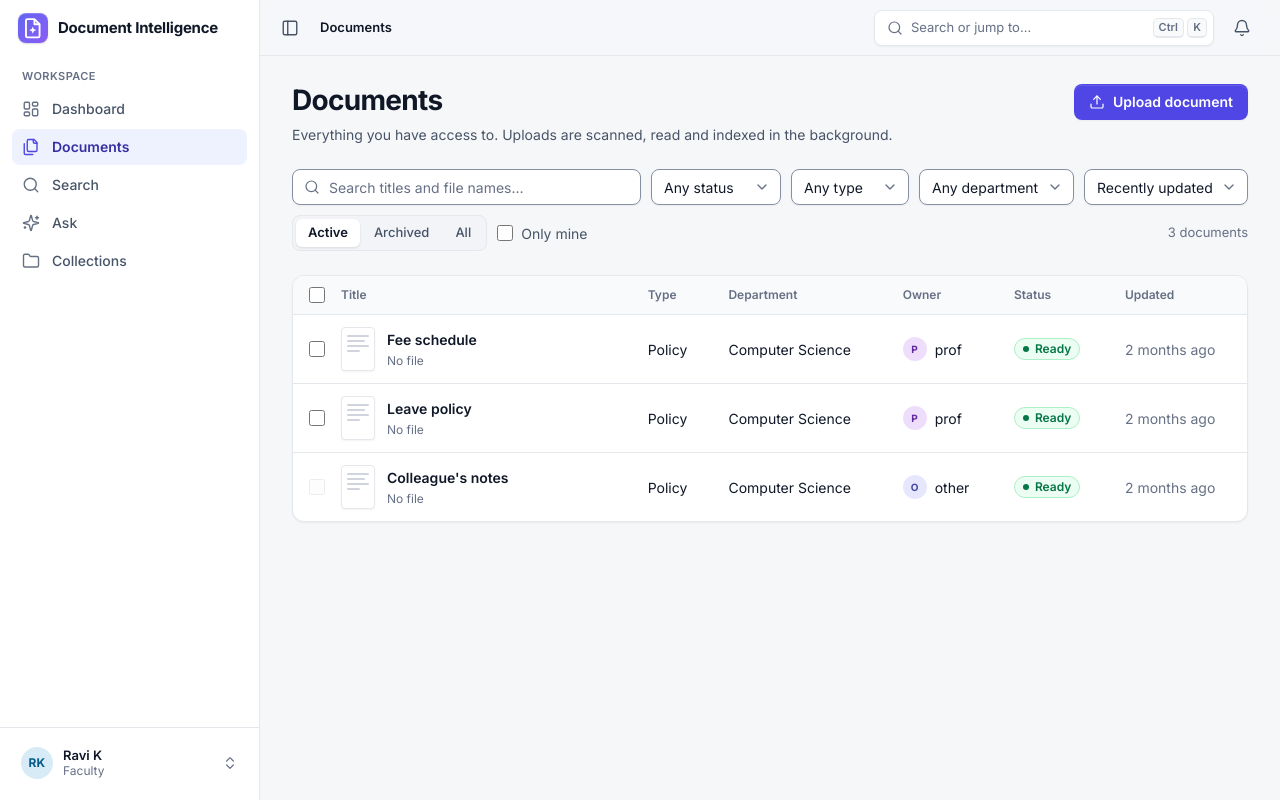
Test: DocumentsPage bulk delete › deletes the selected documents after confirmation
Click the checkbox named "Select Fee schedule".
click(317, 349)  # box [309,341,325,357]
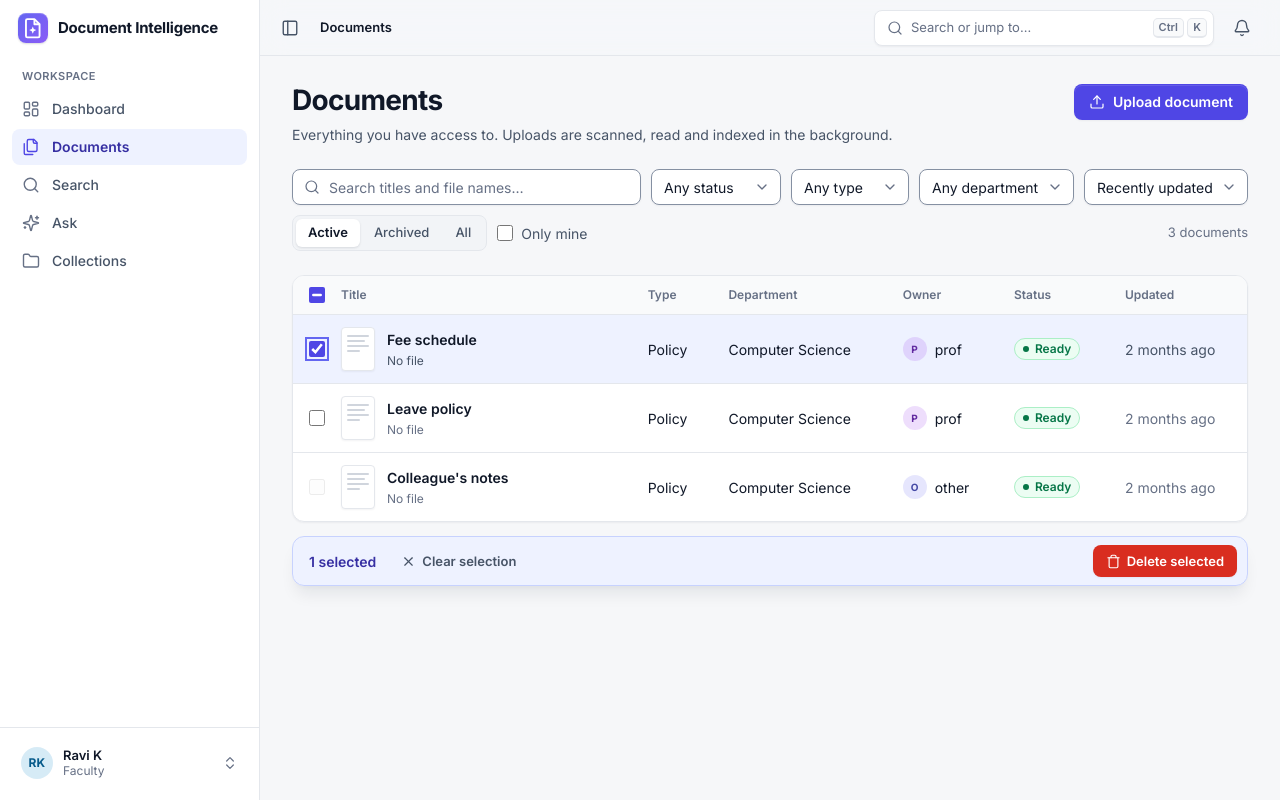
Click the checkbox named "Select Leave policy".
click(317, 418)  # box [309,410,325,426]
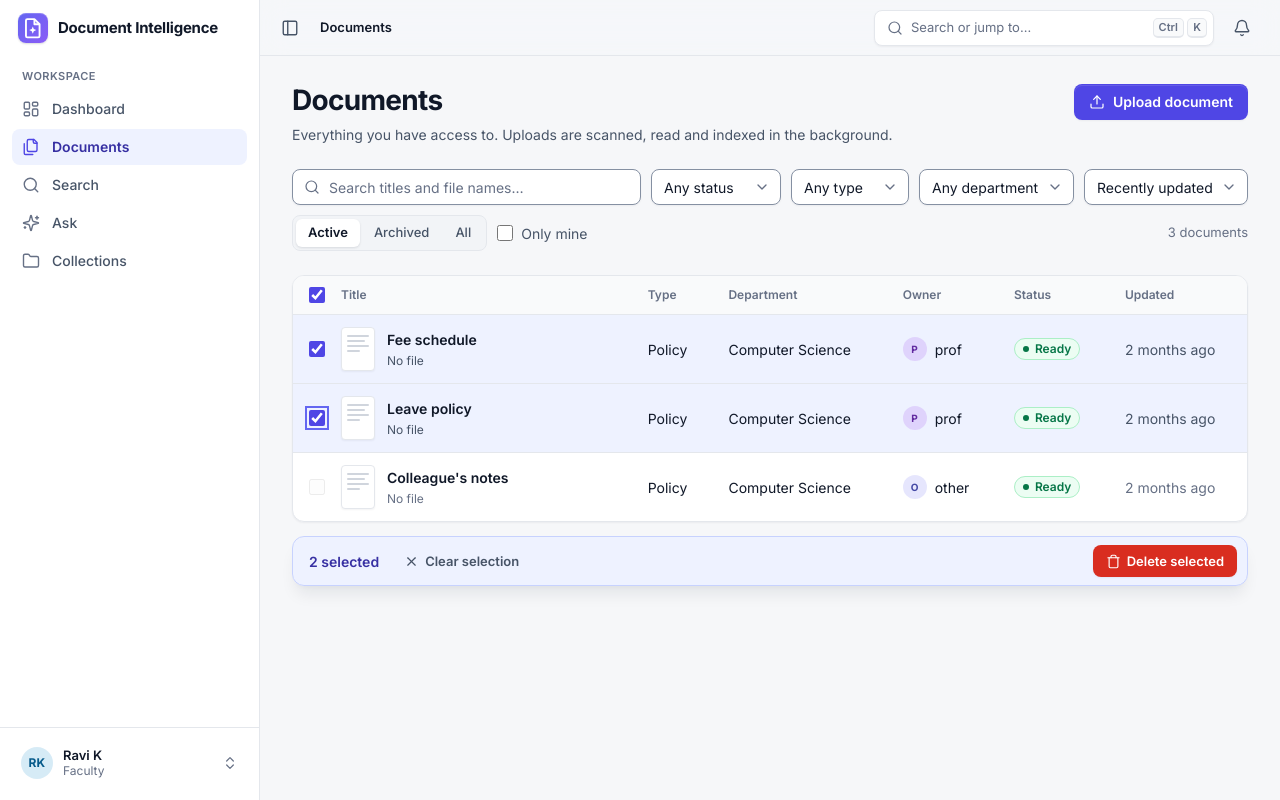
Expected: the text "2 selected" is shown, [309,551,379,572]
Click the button "Delete selected".
click(1165, 561)  # box [1093,545,1237,577]
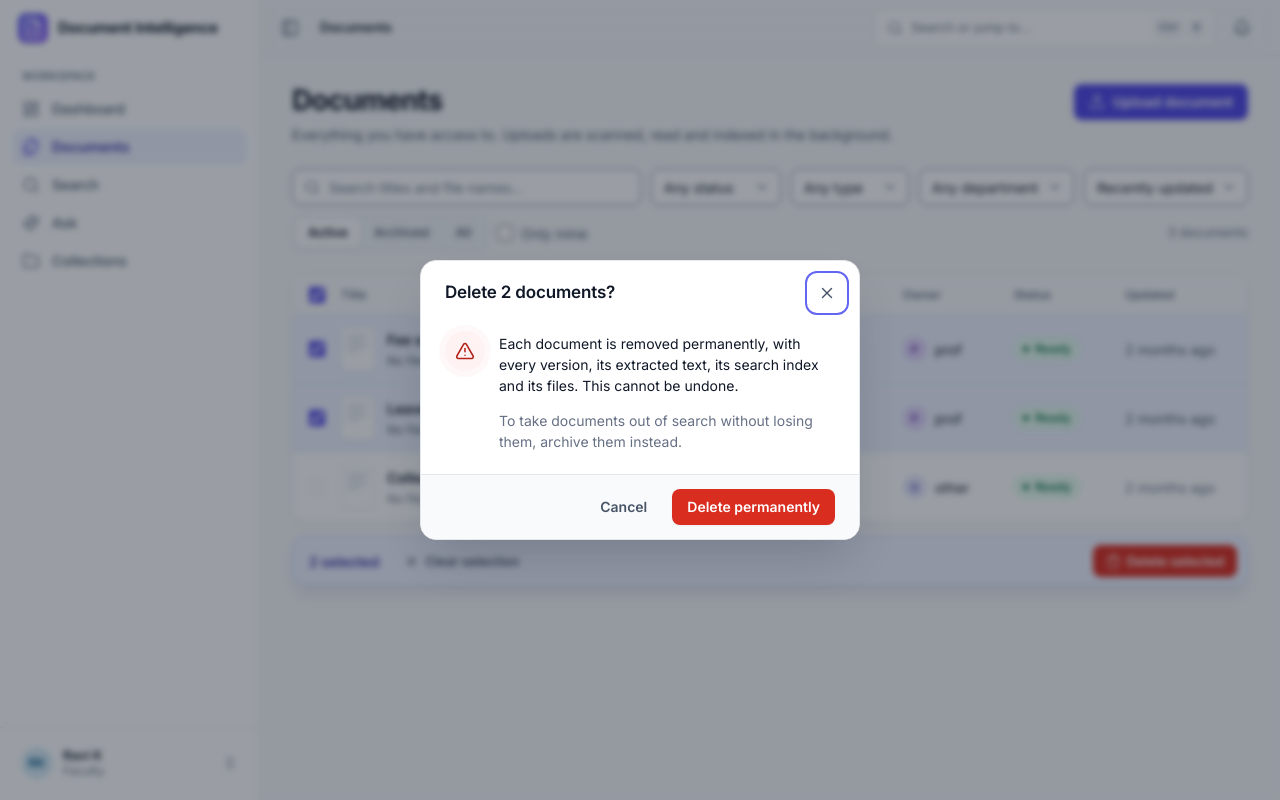
Click the button "Delete permanently".
click(754, 507)  # box [672,489,835,525]
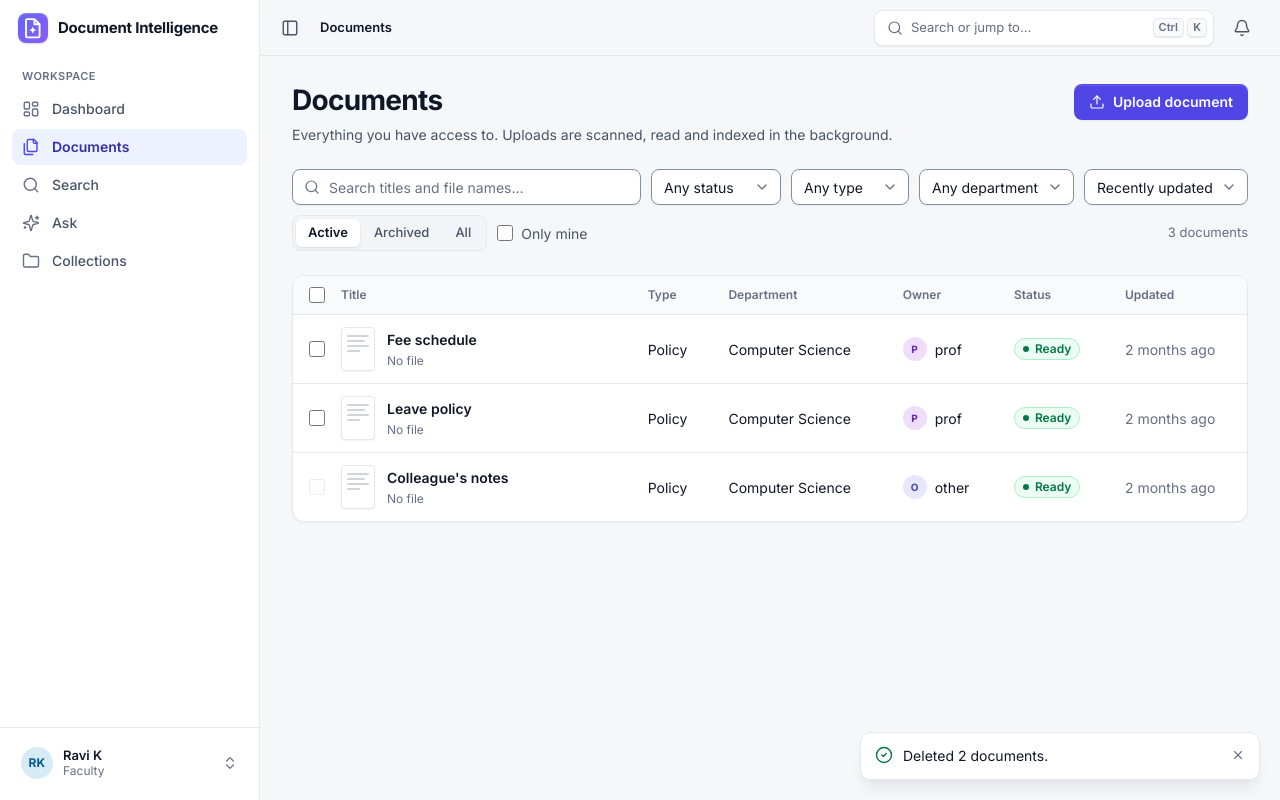
Expected: the text "Deleted 2 documents." is shown, [903,747,1048,764]
Expected: the text "2 selected" is gone
